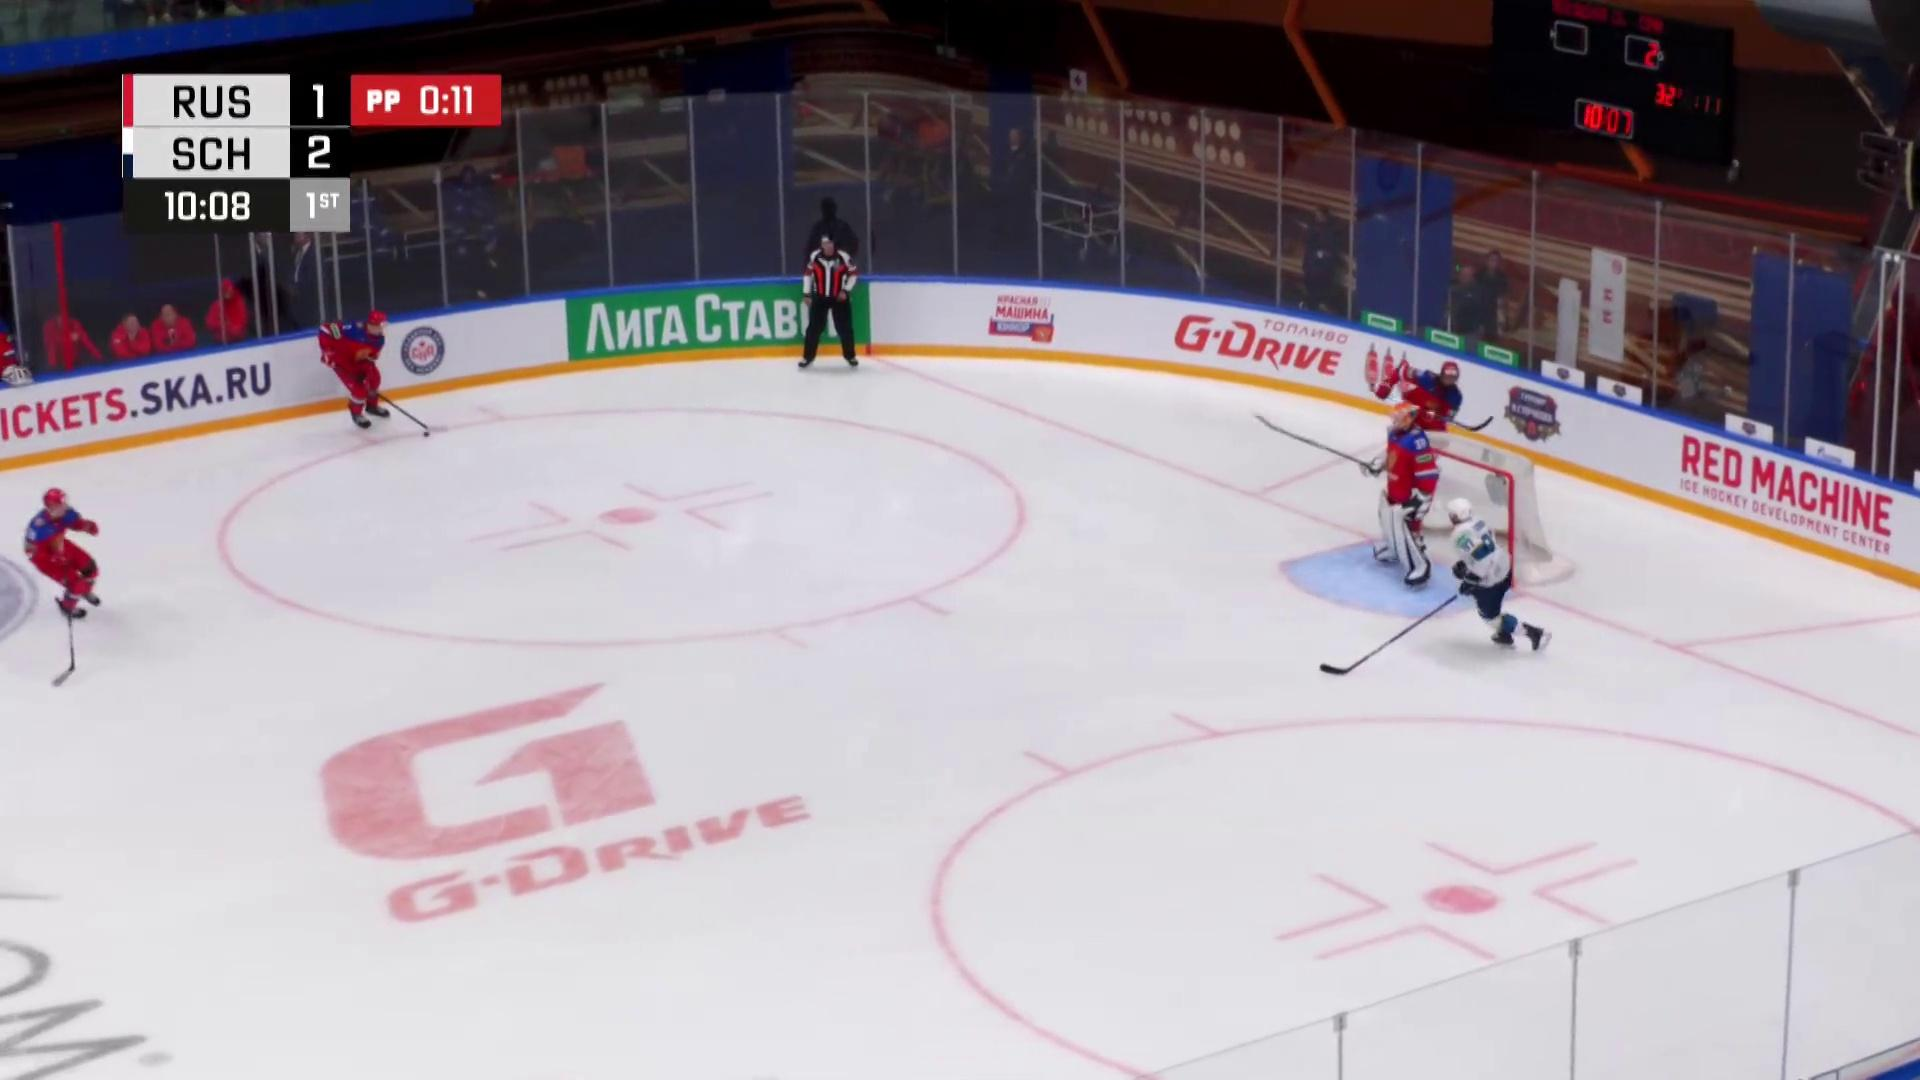ball: (422, 433, 431, 438)
